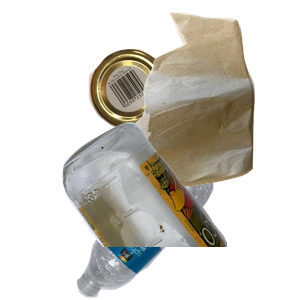glass: (60, 120, 300, 300)
metal: (86, 46, 248, 169)
plastic: (74, 156, 280, 300)
trash: (114, 10, 300, 189)
